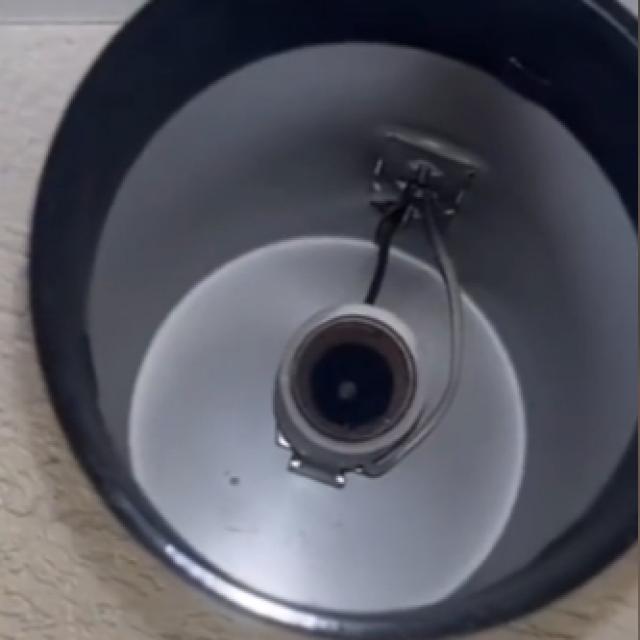hidden camera: (309, 333, 393, 433)
